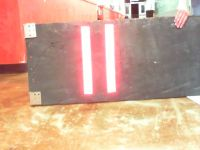switch: (104, 24, 118, 93), (80, 26, 93, 93)
